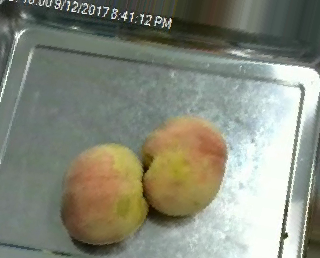Peach: (61, 141, 148, 245), (139, 114, 226, 217)
